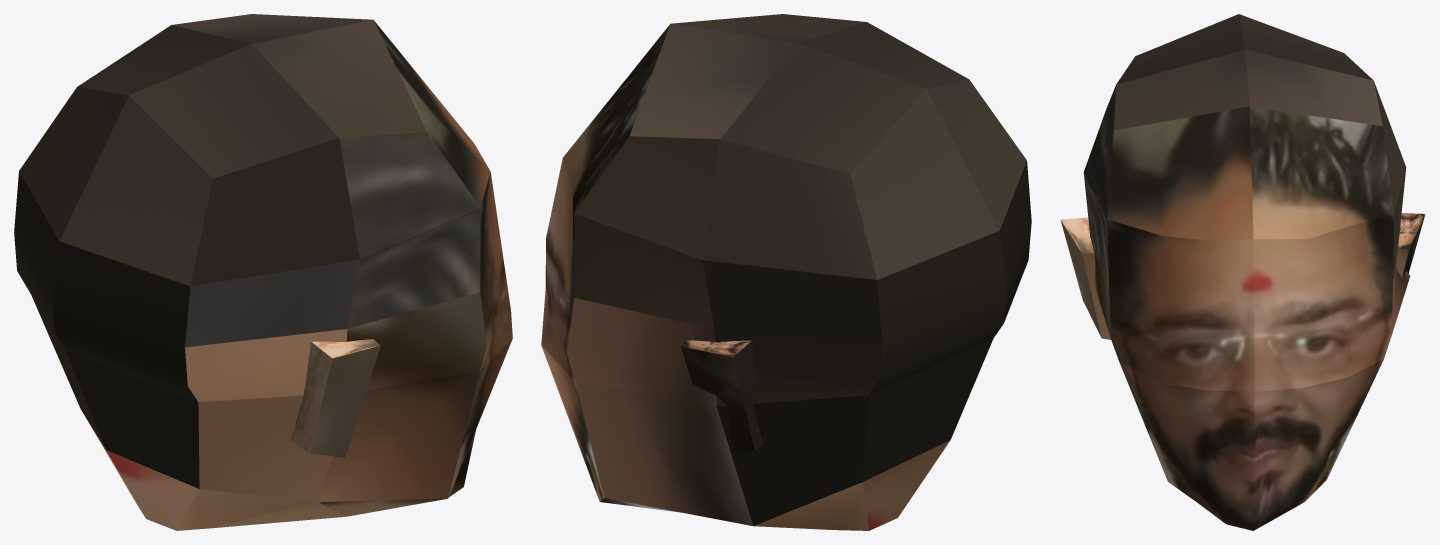
The model's file is hindustanibhau.fbx.
The picture shows the model from 3 angles, left to right: view 1: azimuth 30°, elevation 25°; view 2: azimuth 150°, elevation 25°; view 3: azimuth 270°, elevation 25°; orthographic projection. The views are drawn at different scales.
Visible parts, largest first — view 1: Cylinder; view 2: Cylinder; view 3: Cylinder.
Part boxes in pixels (x1,y1,x2,y2): Cylinder: (14,14,512,530); Cylinder: (541,14,1031,530); Cylinder: (1060,14,1425,530).
Size of the model in its own units: 91.45 by 97.89 by 80.57.
Materials: 1 (1 with a texture image).
